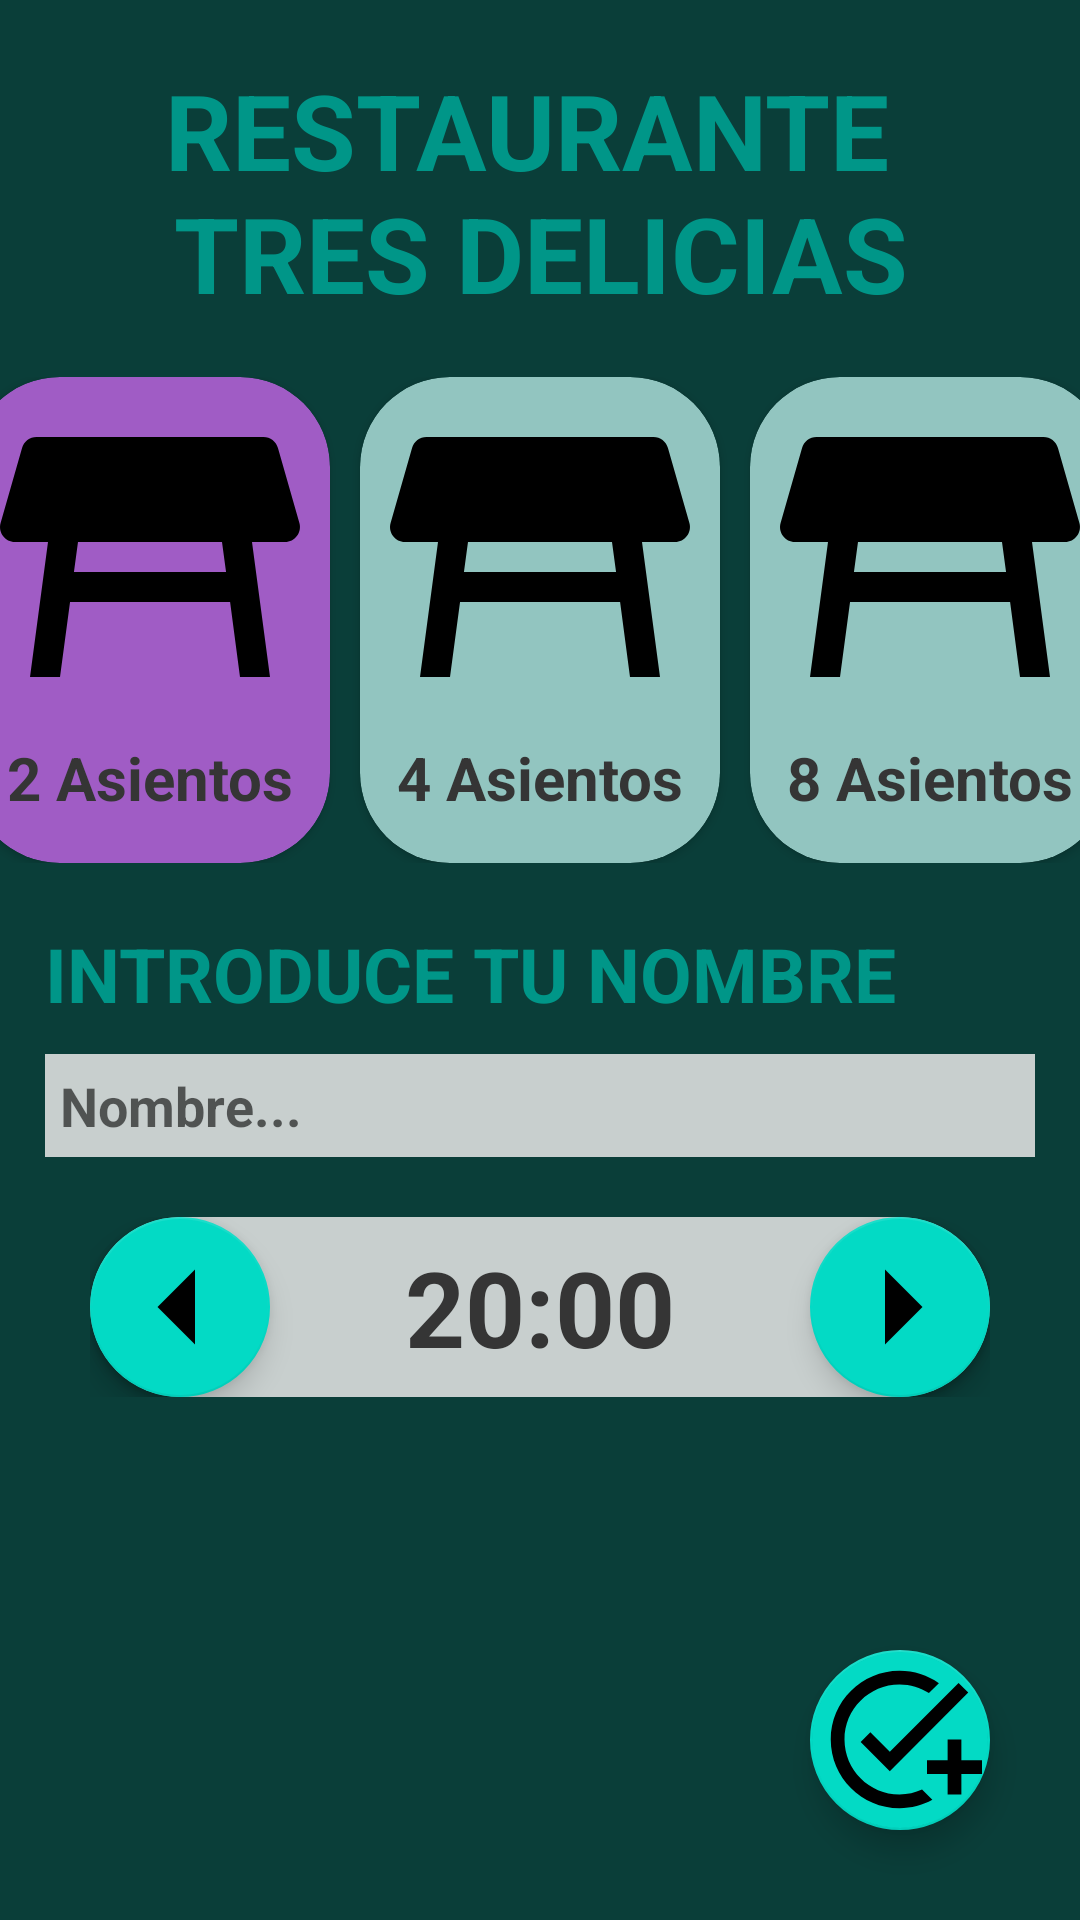

Icons on this 1080w x 1920h Android screen, each with the point to tap as (x=x, y=y):
Botón para adelantar la hora: (x=900, y=1307)
Botón para atrasar la hora: (x=180, y=1307)
Botón para confirmar la reserva: (x=900, y=1740)
Imagen de una mesa: (x=165, y=557), (x=540, y=557), (x=915, y=557)
